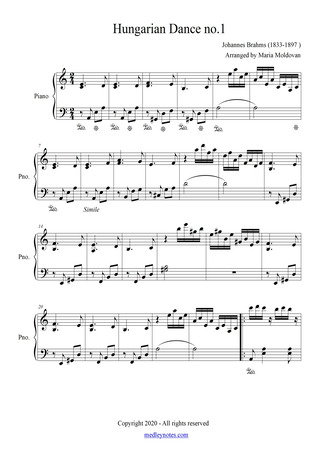Partitura: (14, 19, 307, 379)
